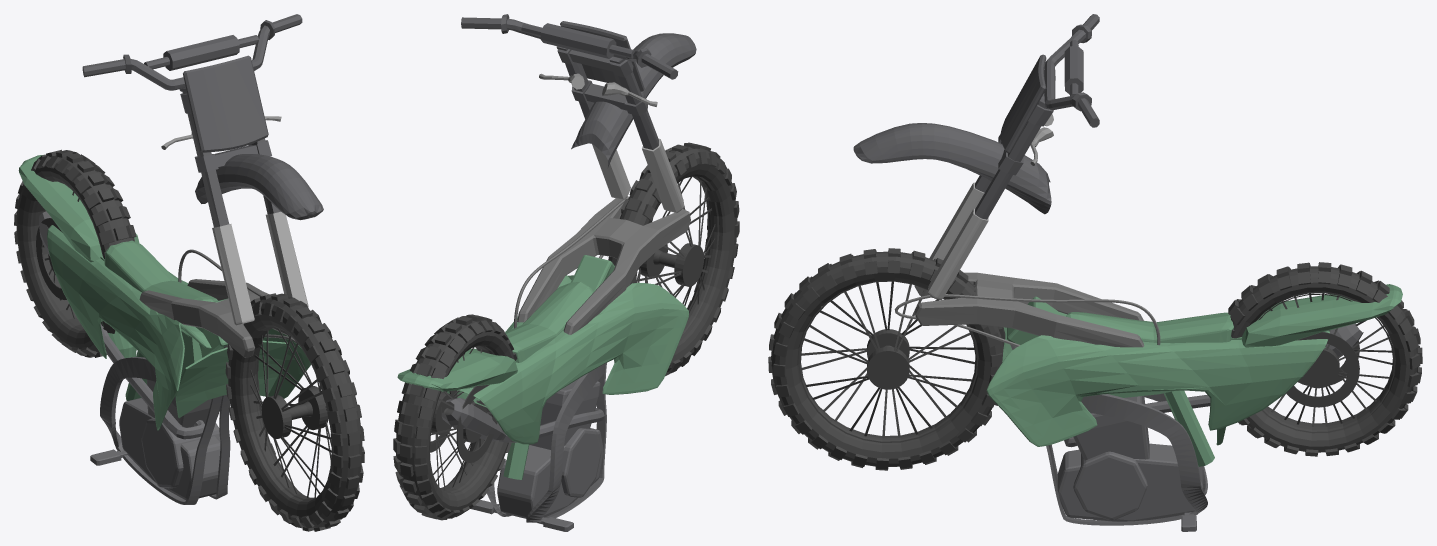
File: DirtBike.glb
3 views of the same model, side by side, from view 1: azimuth 30°, elevation 25°; view 2: azimuth 150°, elevation 25°; view 3: azimuth 270°, elevation 25° (orthographic).
Parts seen in each view (by area): view 1: Body_GEO, FrontWheel_GEO, Handle_GEO, Engine_GEO, RearWheel_GEO, RearWheelChain_GEO, FrontShock_GEO; view 2: Body_GEO, RearWheel_GEO, Engine_GEO, FrontWheel_GEO, Handle_GEO, RearWheelChain_GEO, FrontShock_GEO, RightLeaver_GEO; view 3: Body_GEO, FrontWheel_GEO, RearWheel_GEO, Engine_GEO, Handle_GEO, RearWheelChain_GEO, FrontShock_GEO.
Part boxes in pixels (x1,y1,x2,y2): Body_GEO: [18, 154, 310, 430]; FrontWheel_GEO: [225, 293, 364, 531]; Handle_GEO: [82, 14, 323, 227]; Engine_GEO: [39, 211, 230, 504]; RearWheel_GEO: [14, 149, 136, 357]; RearWheelChain_GEO: [139, 249, 296, 357]; FrontShock_GEO: [212, 211, 308, 325]; Body_GEO: [397, 255, 688, 479]; RearWheel_GEO: [393, 314, 517, 520]; Engine_GEO: [441, 362, 606, 531]; FrontWheel_GEO: [608, 142, 739, 376]; Handle_GEO: [461, 14, 696, 167]; RearWheelChain_GEO: [514, 196, 690, 334]; FrontShock_GEO: [592, 138, 683, 212]; RightLeaver_GEO: [602, 82, 657, 106]; Body_GEO: [986, 284, 1402, 466]; FrontWheel_GEO: [768, 248, 1005, 470]; RearWheel_GEO: [1228, 262, 1422, 456]; Engine_GEO: [1010, 323, 1363, 531]; Handle_GEO: [853, 14, 1099, 219]; RearWheelChain_GEO: [894, 272, 1160, 347]; FrontShock_GEO: [928, 182, 988, 299].
Bounding box in the file's own units: 0.8421 × 1.7 × 2.21.
